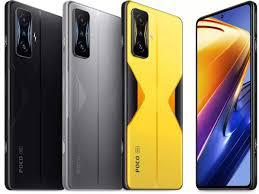Smartphone: (195, 0, 256, 189), (122, 1, 183, 188), (4, 1, 63, 193), (65, 0, 118, 190)
